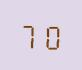seven: (19, 19, 39, 49)
zero: (40, 19, 60, 50)
